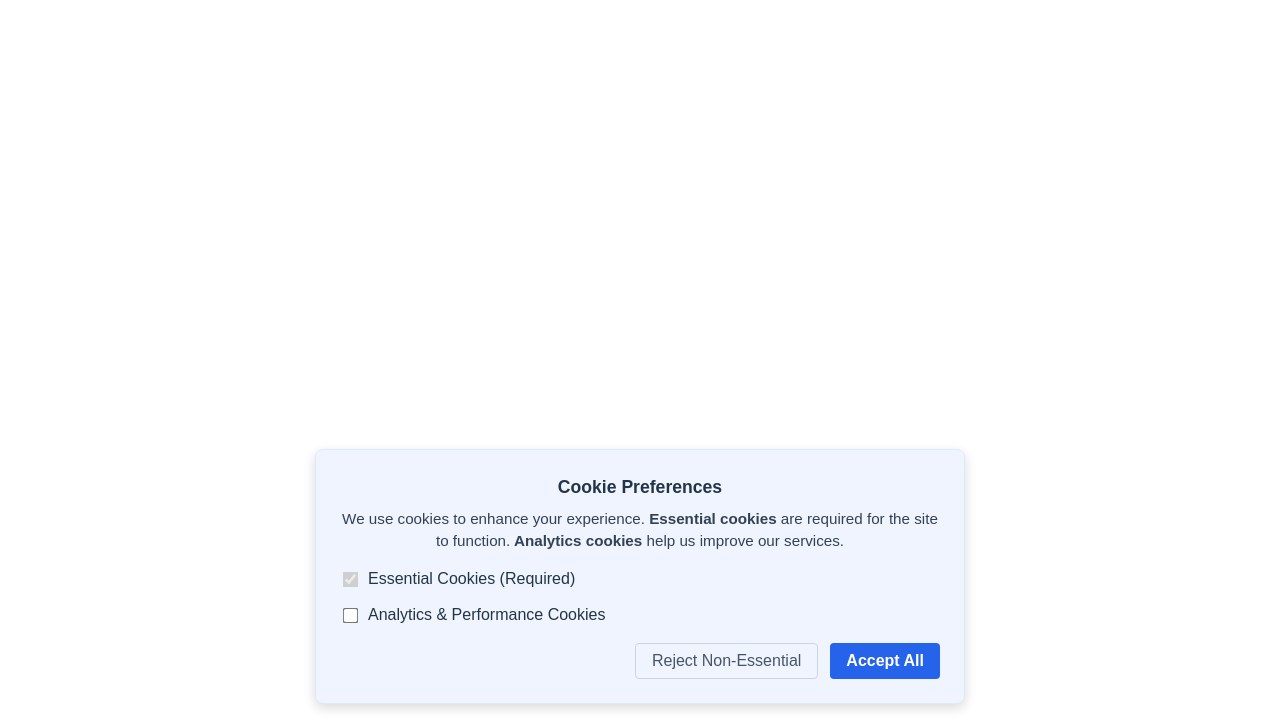
Test: ConsentBanner › shows error message when save consent fails
Check: the heading "Cookie Preferences" is shown, box [558,477,722,497]
Click the button "Accept All".
click(885, 661)  # box [830,643,940,679]
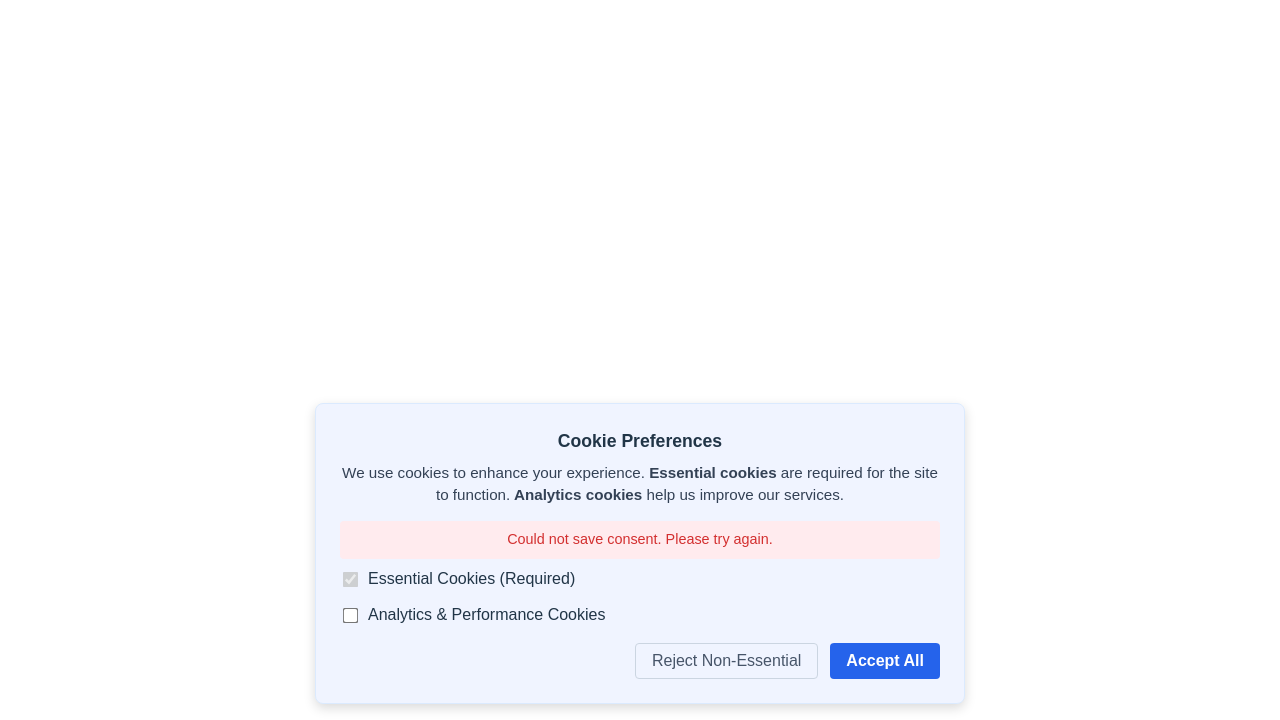
Check: the text "Could not save consent. Please try again." is shown, box [340,521,940,559]
